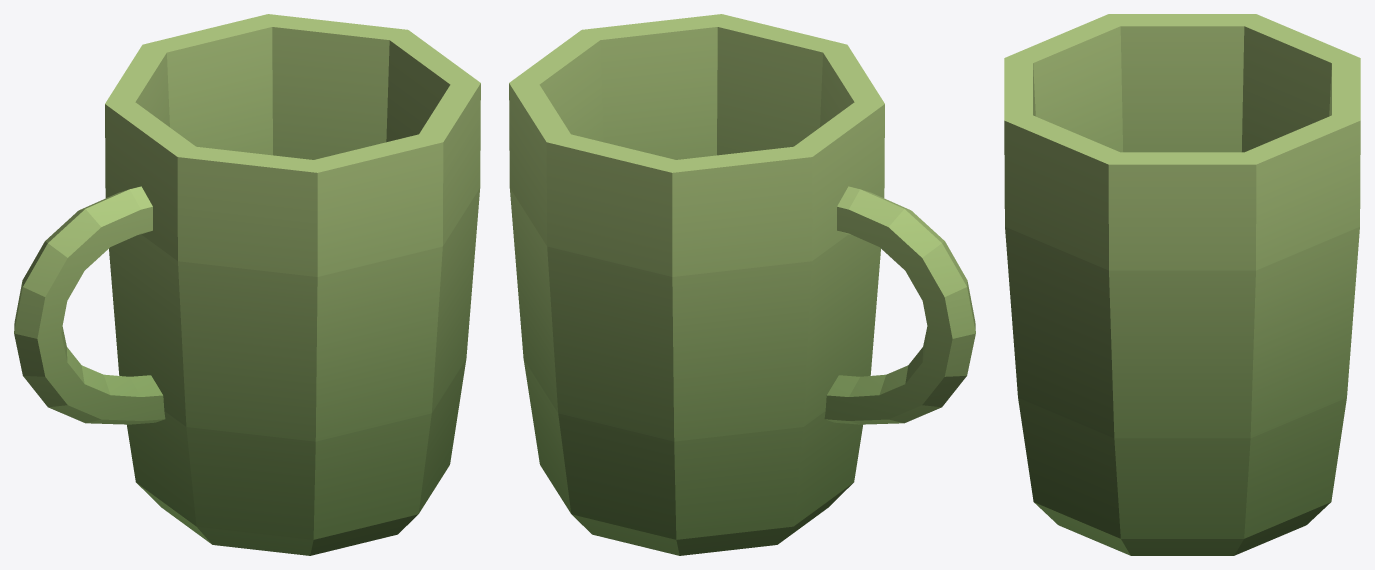
Rendered from Cup3_C4.fbx.
3 renders of one model, left to right at view 1: azimuth 30°, elevation 25°; view 2: azimuth 150°, elevation 25°; view 3: azimuth 270°, elevation 25°, orthographic.
Visible parts, largest first — view 1: Cup3_C4; view 2: Cup3_C4; view 3: Cup3_C4.
Part boxes in pixels (box(x1,y1,x2,y2)): Cup3_C4: box(14, 14, 480, 555); Cup3_C4: box(509, 14, 975, 555); Cup3_C4: box(1004, 14, 1360, 555).
Bounding box in the file's own units: 13.18 × 11.91 × 9.29.
